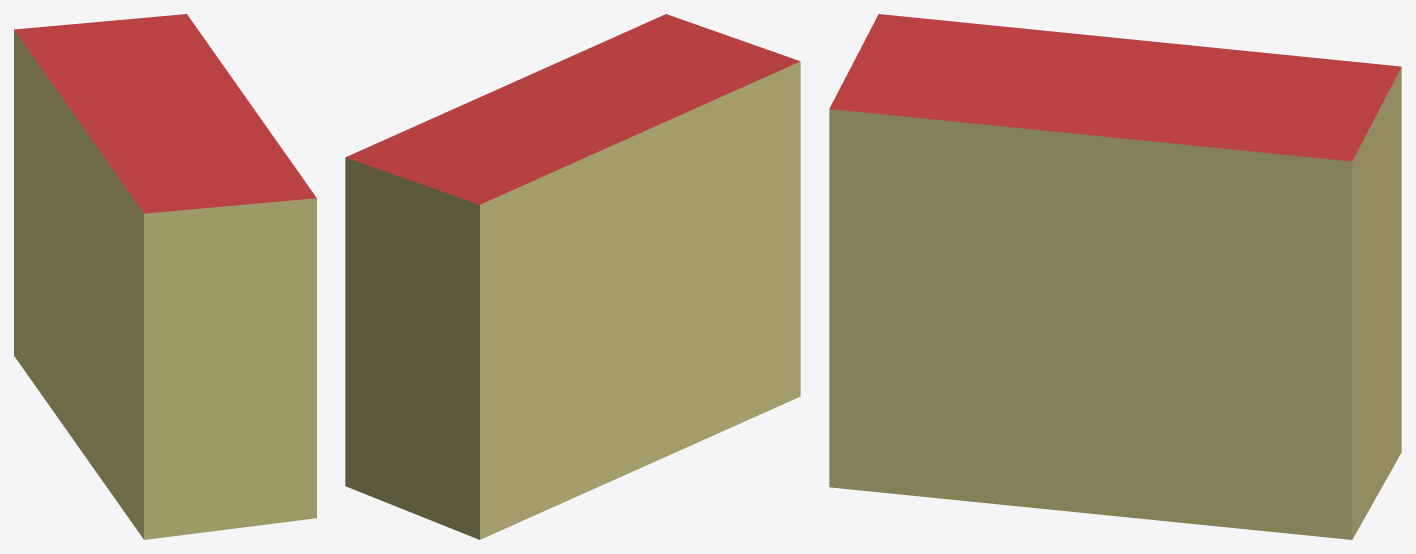
The picture shows the model from 3 angles, left to right: view 1: azimuth 30°, elevation 25°; view 2: azimuth 150°, elevation 25°; view 3: azimuth 270°, elevation 25°; orthographic projection. The views are drawn at different scales.
Size of the model in its own units: 4.49 by 7.75 by 5.77.
